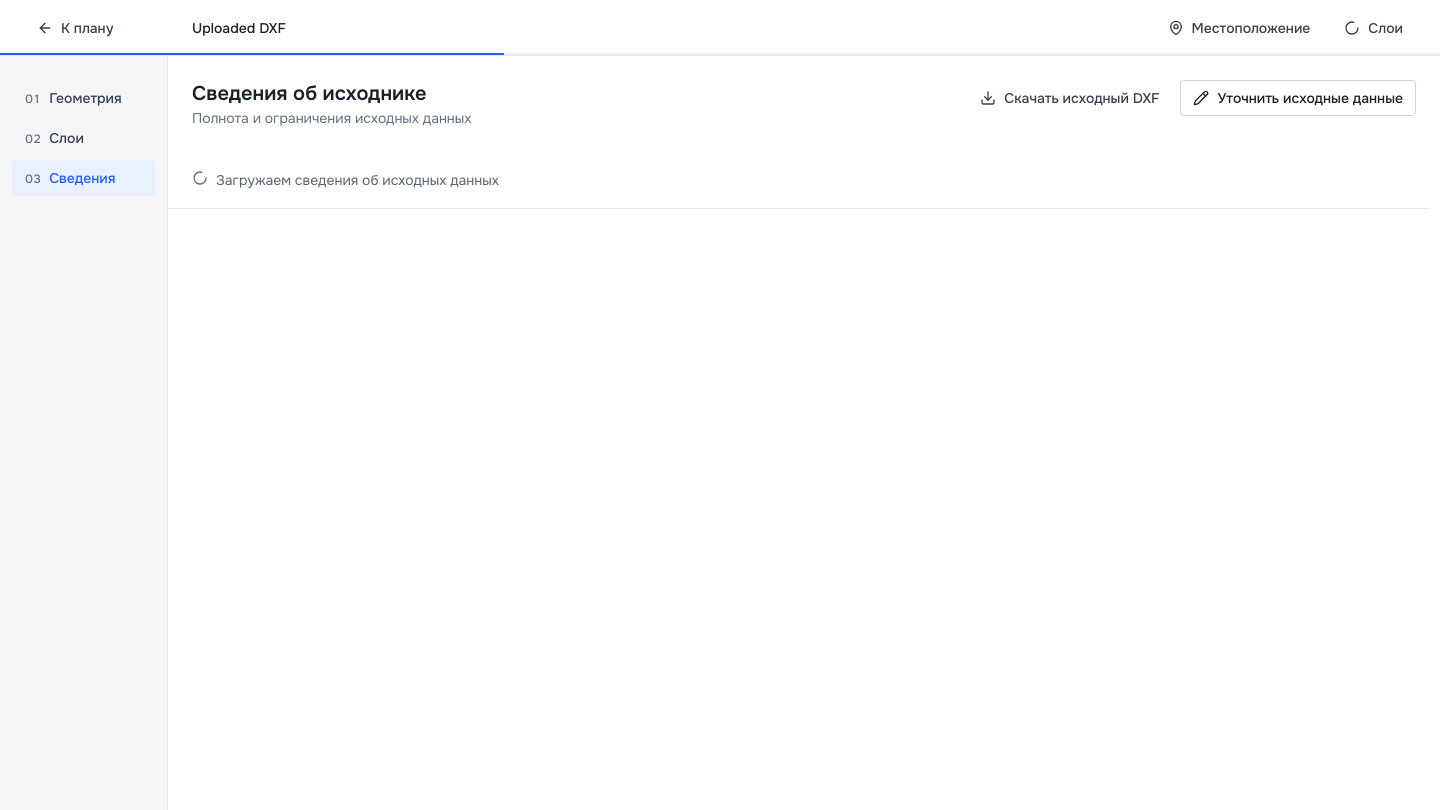
keeps one header recognition indicator when leaving the read-only layers section
Click the button "01Геометрия" at (84,98), box [12,80,155,116]
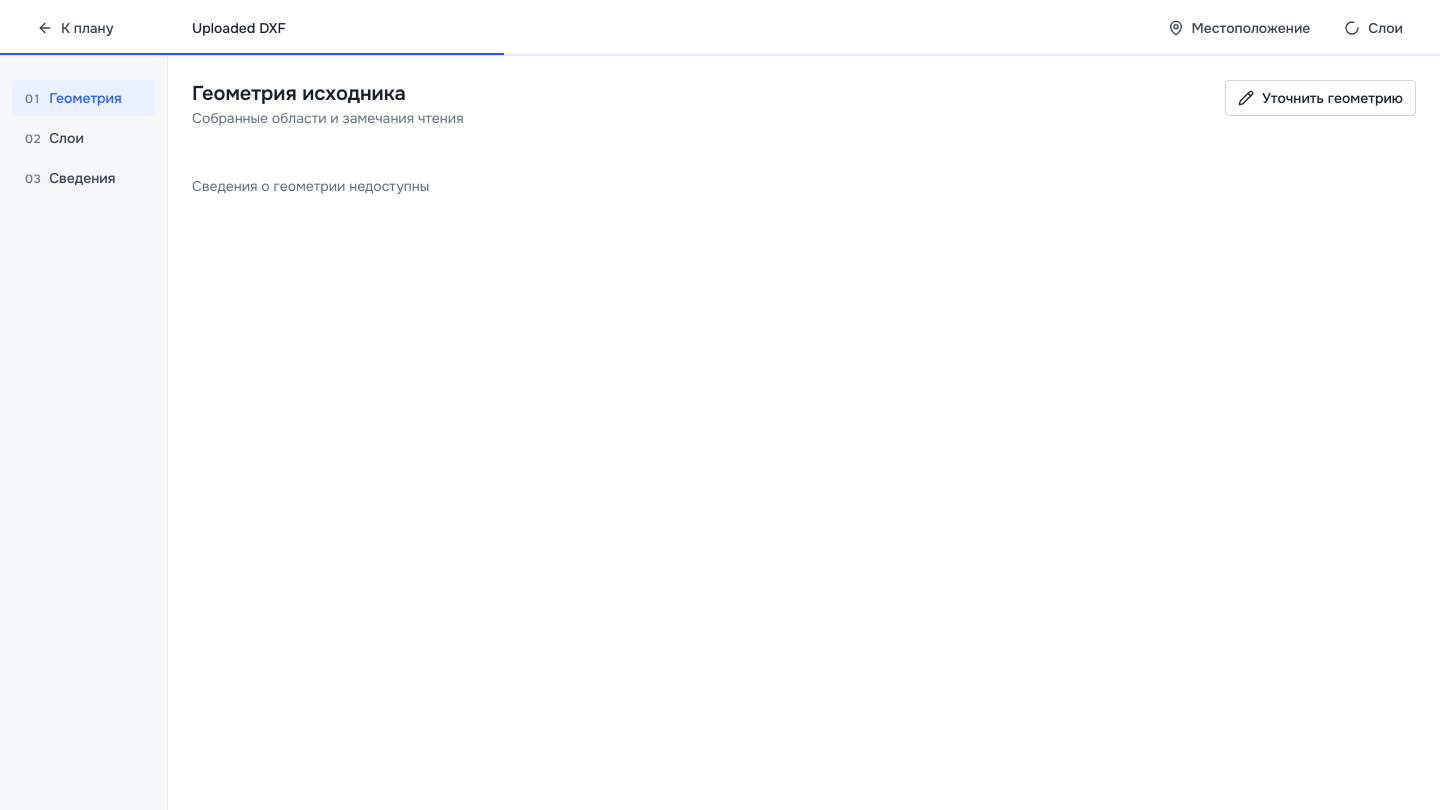
Check: the progress indicator named "Распознавание слоёв" is shown, box [0,53,1439,55]
Check: the header named "Распознавание слоёв" is shown, box [0,0,1439,56]
Click the button with aria-label "Слои: распознавание" at (1374,28), box [1331,10,1416,46]
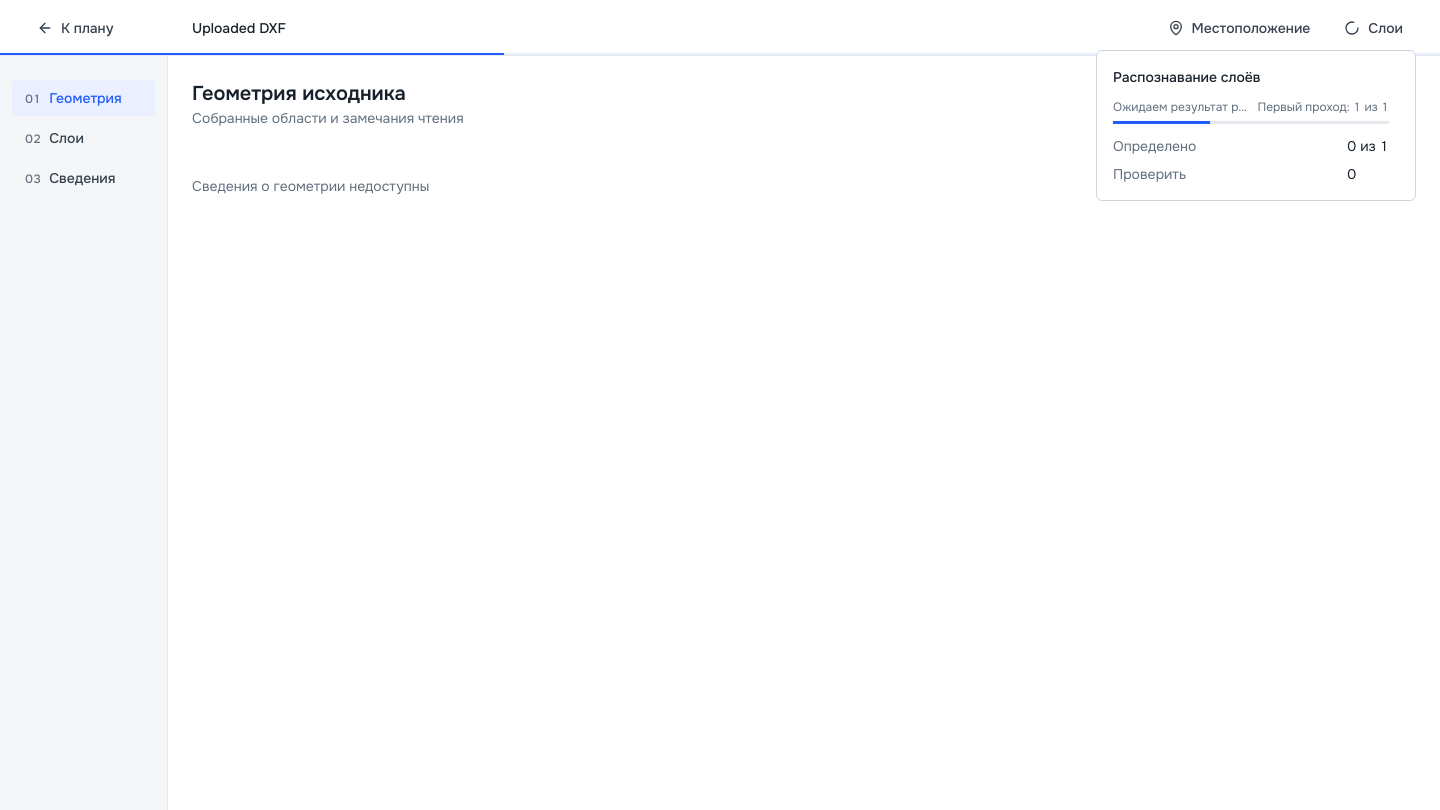
Check: the text "Ожидаем результат распознавания" is shown, box [1113,99,1249,115]
